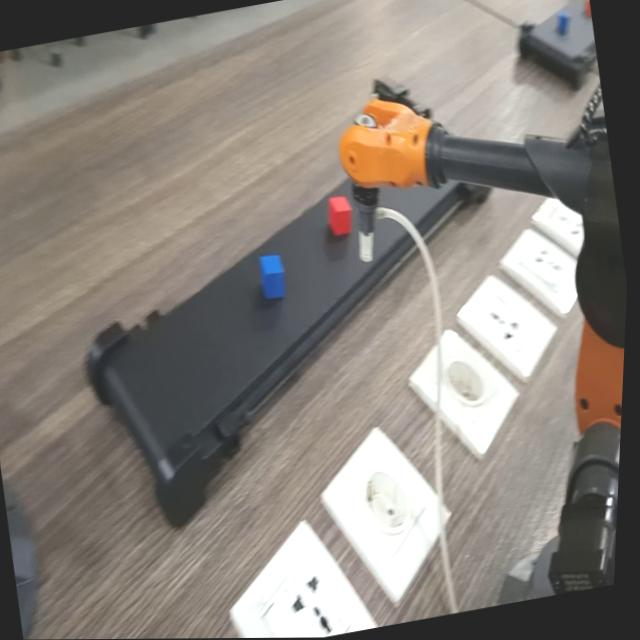cube: (253, 245, 302, 308), (319, 182, 361, 248), (552, 5, 574, 38)
